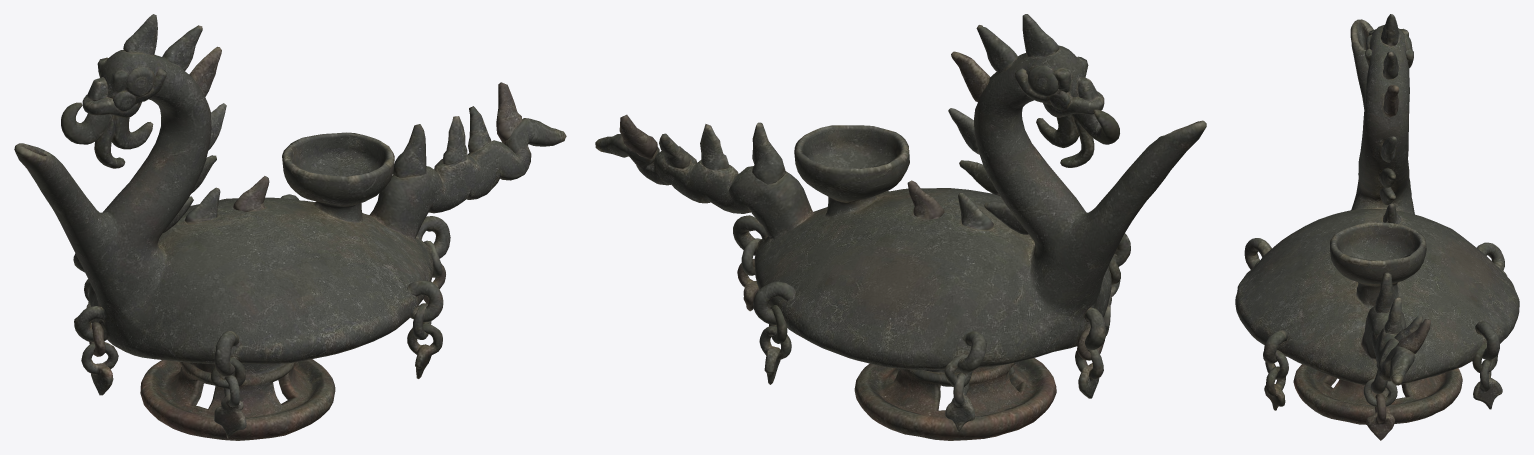
File: seosu-v1.glb
3 renders of one model, left to right at view 1: azimuth 30°, elevation 25°; view 2: azimuth 150°, elevation 25°; view 3: azimuth 270°, elevation 25°, orthographic. The views are drawn at different scales.
Parts seen in each view (by area): view 1: ShillaKettle_01_1_Cage, ShillaKettle_01_3_Cage, ShillaKettle_01_4_Cage, ShillaKettle_01_2_Cage; view 2: ShillaKettle_01_1_Cage, ShillaKettle_01_3_Cage, ShillaKettle_01_4_Cage, ShillaKettle_01_2_Cage; view 3: ShillaKettle_01_1_Cage, ShillaKettle_01_3_Cage, ShillaKettle_01_2_Cage.
Part boxes in pixels (x1,y1,x2,y2): ShillaKettle_01_1_Cage: (14,14,566,440); ShillaKettle_01_3_Cage: (81,264,445,438); ShillaKettle_01_4_Cage: (61,102,153,168); ShillaKettle_01_2_Cage: (89,240,442,388); ShillaKettle_01_1_Cage: (595,14,1206,440); ShillaKettle_01_3_Cage: (737,259,1120,431); ShillaKettle_01_4_Cage: (1036,109,1119,167); ShillaKettle_01_2_Cage: (741,238,1120,386); ShillaKettle_01_1_Cage: (1235,14,1519,424); ShillaKettle_01_3_Cage: (1264,360,1502,440); ShillaKettle_01_2_Cage: (1254,260,1507,406).
Bounding box in the file's own units: 2.96 × 2 × 1.48.
4 materials, 4 textured.
